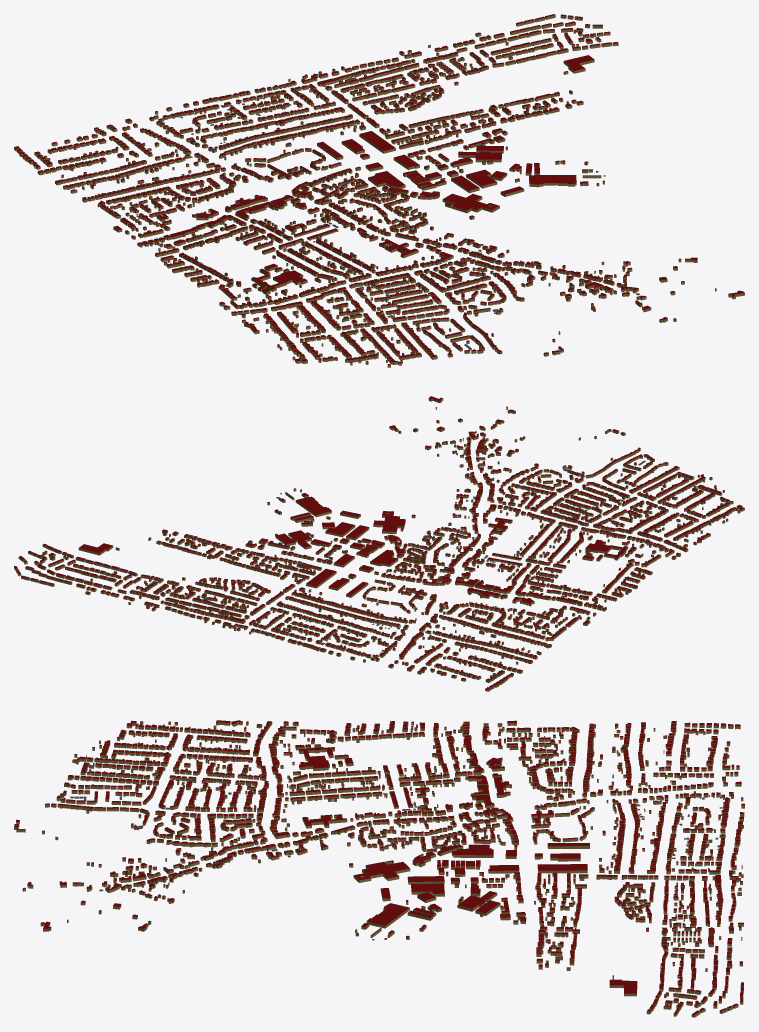
3 views of the same model, one above another, from view 1: azimuth 30°, elevation 25°; view 2: azimuth 150°, elevation 25°; view 3: azimuth 270°, elevation 25° (orthographic). The views are drawn at different scales.
Visible parts, largest first — view 1: Building Samvardhana Motherson Works (Automotive Components), Building1393; view 2: no part large enough to name; view 3: Building Samvardhana Motherson Works (Automotive Components), Building1393, Building Trafalgar Wharf Drystack.
Boxes of the visible parts, x1,y1,x2,y2 form: Building Samvardhana Motherson Works (Automotive Components): (442,193,499,213); Building1393: (251,270,307,291); Building Samvardhana Motherson Works (Automotive Components): (353,862,410,882); Building1393: (298,747,334,771); Building Trafalgar Wharf Drystack: (366,903,409,928).
Size of the model in its own units: 1706 by 7.5 by 1787.
